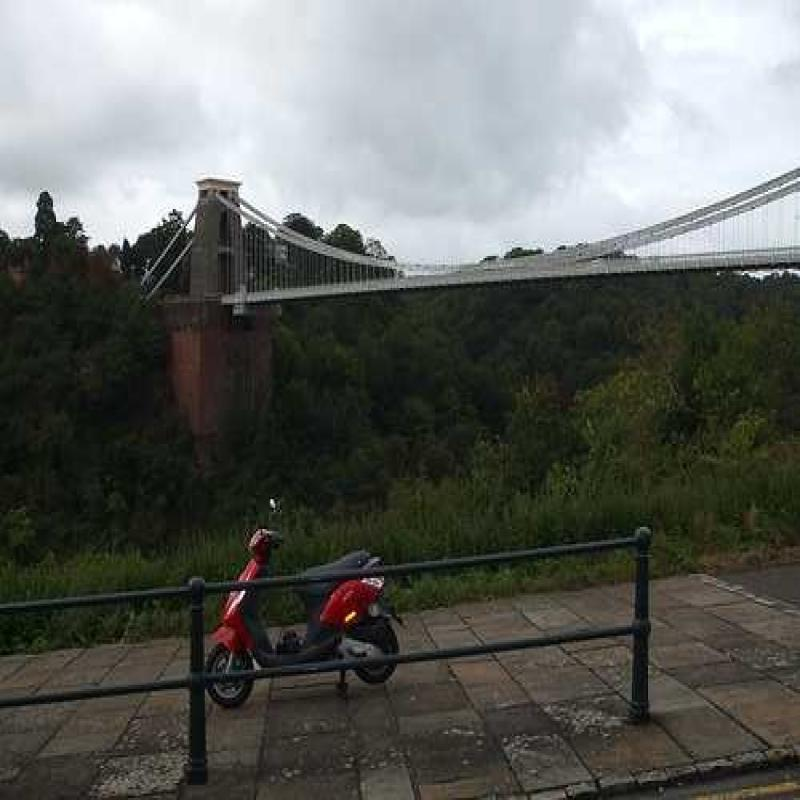bike: (216, 498, 410, 703)
